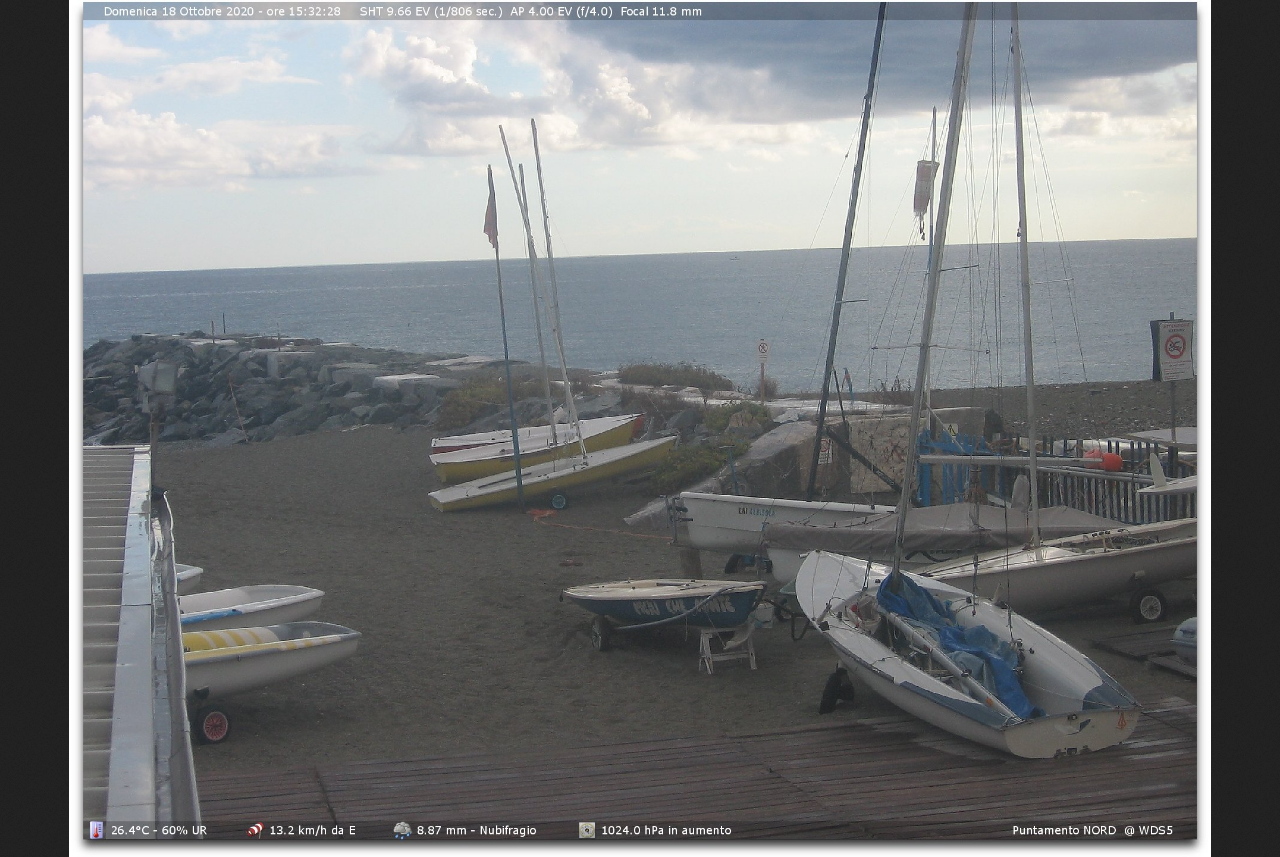no: (484, 169, 498, 252)
